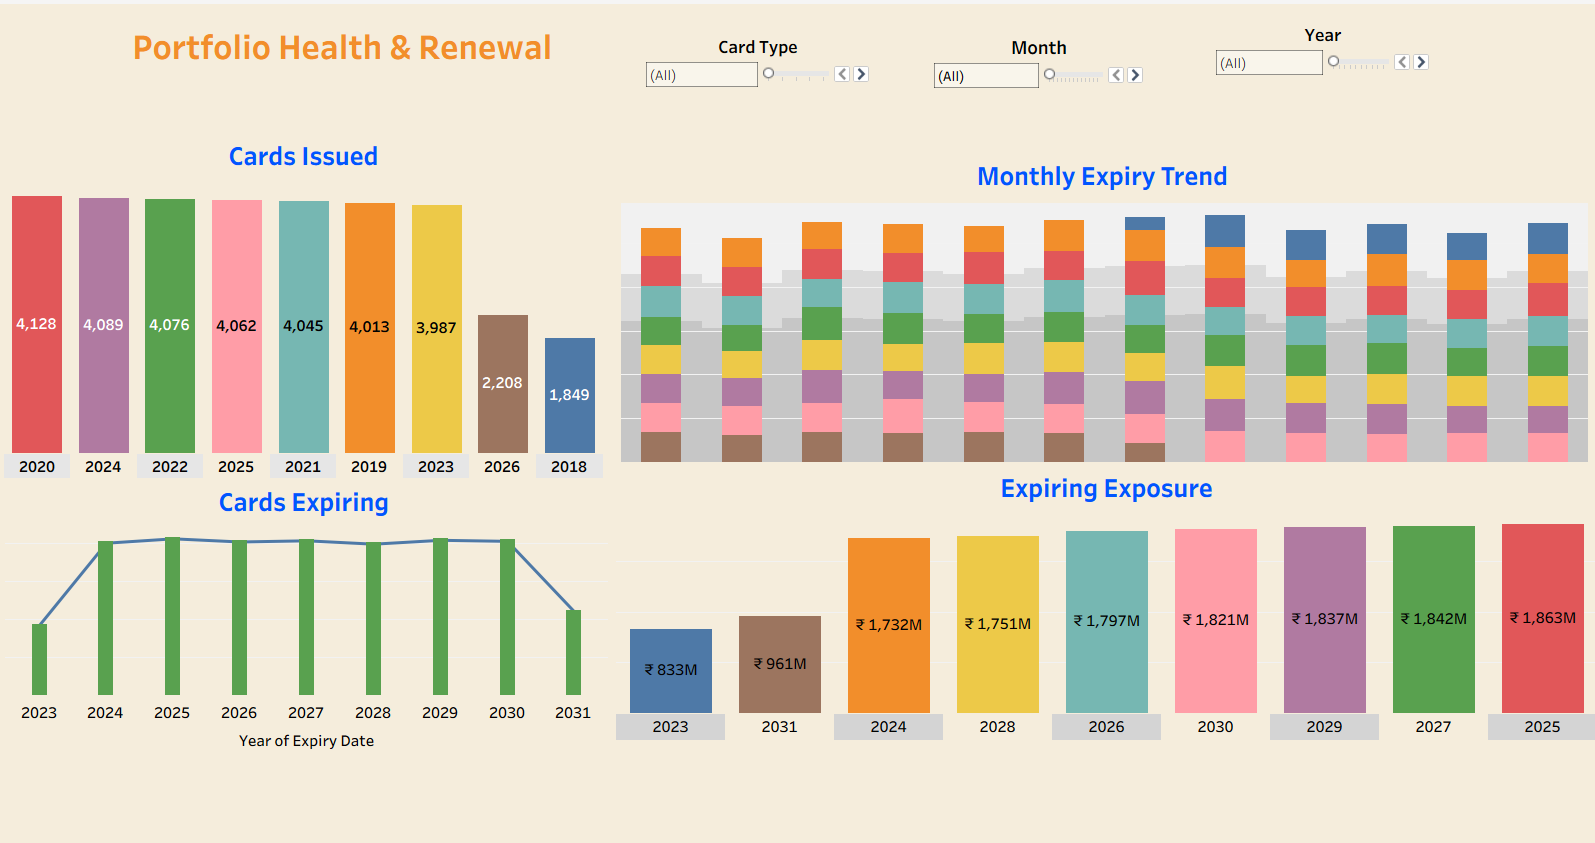

The dashboard page shown, as its layout file describes it:
{"tool":"tableau","page":{"name":"Portfolio Health & Renewal ","canvas":[1600,900],"ordinal":3},"visuals":[{"type":"text","box":[129,18,469,48]},{"type":"filter","title":"Cards Issued","param":"[federated.1vz7fz40ilj1zt1456ini1l9mxkm].[yr:Issue_Date:ok]","box":[1213,18,220,72]},{"type":"filter","title":"Cards Issued","param":"[federated.1vz7fz40ilj1zt1456ini1l9mxkm].[none:Card_Type:nk]","box":[643,30,230,65]},{"type":"filter","title":"Monthly Expiry Trend ","param":"[federated.1vz7fz40ilj1zt1456ini1l9mxkm].[mn:Issue_Date:ok]","box":[931,30,216,72]},{"type":"worksheet","title":"Cards Issued","mark":"Bar","rows":["Card_ID"],"cols":["Issue_Date"],"box":[4,130,599,344]},{"type":"worksheet","title":"Monthly Expiry Trend ","mark":"Bar","rows":["Card_ID"],"cols":["Expiry_Date"],"box":[621,150,968,308]},{"type":"worksheet","title":"Expiring Exposure","mark":"Bar","rows":["Credit_Limit"],"cols":["Expiry_Date"],"box":[616,462,981,274]},{"type":"worksheet","title":"Cards Expiring ","mark":"Automatic","rows":["Card_ID","Card_ID"],"cols":["Expiry_Date"],"box":[5,476,603,278]}]}

Visuals, with their boxes on the page's 1600x900 design canvas (x1, y1, x2, y2). These are canvas units, not pixel positions in the 1595x843 screenshot, which may show the page scaled, cropped or inside an application window:
text: 129 18 598 66
"Cards Issued" filter: 1213 18 1433 90
"Cards Issued" filter: 643 30 873 95
"Monthly Expiry Trend " filter: 931 30 1147 102
"Cards Issued" worksheet (Bar marks): 4 130 603 474
"Monthly Expiry Trend " worksheet (Bar marks): 621 150 1589 458
"Expiring Exposure" worksheet (Bar marks): 616 462 1597 736
"Cards Expiring " worksheet: 5 476 608 754
